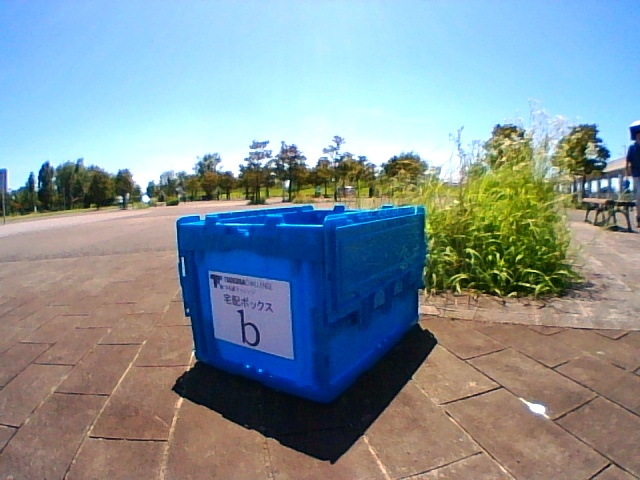blue_box: (179, 208, 422, 356)
tag_b: (215, 283, 290, 347)
